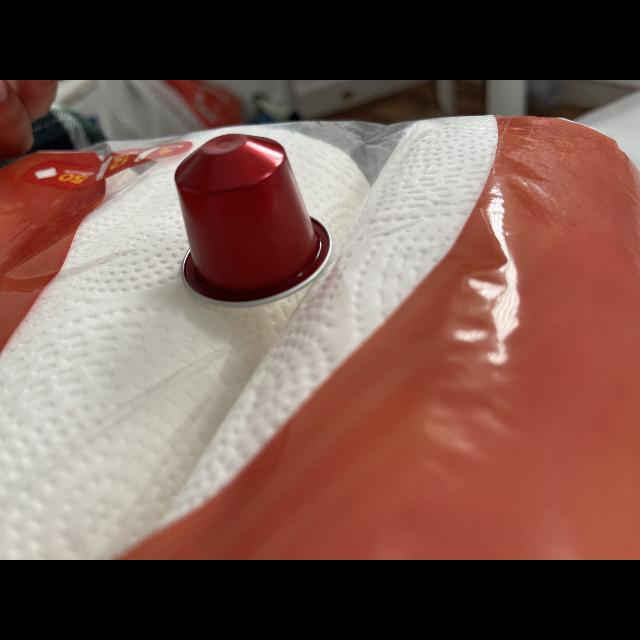intact_capsule: (139, 129, 359, 331)
